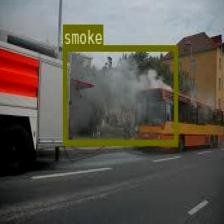smoke: (62, 45, 177, 144)
